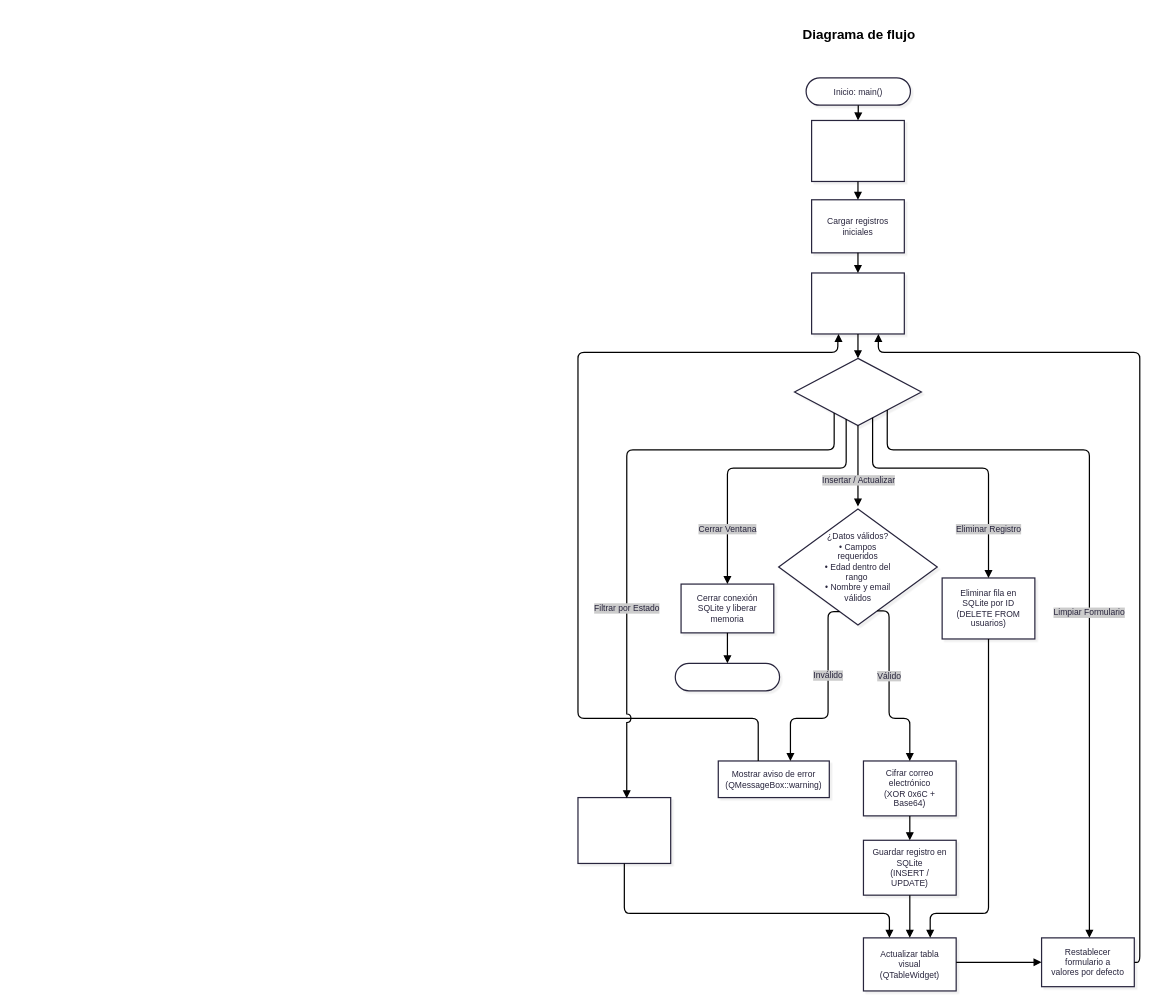
Some shapes in this 1157 by 1004 pixel diagram are drawn without their labels. The centre of each missing label's shape, as x and y in pixels:
Acción del Usuario: pixel 859 392
Consultar SQLite con filtro (WHERE estado = ?): pixel 625 831
Fin: pixel 728 678
Inicializar aplicación y base de datos: pixel 859 152
Mostrar Ventana Principal (MainWindow): pixel 859 304
